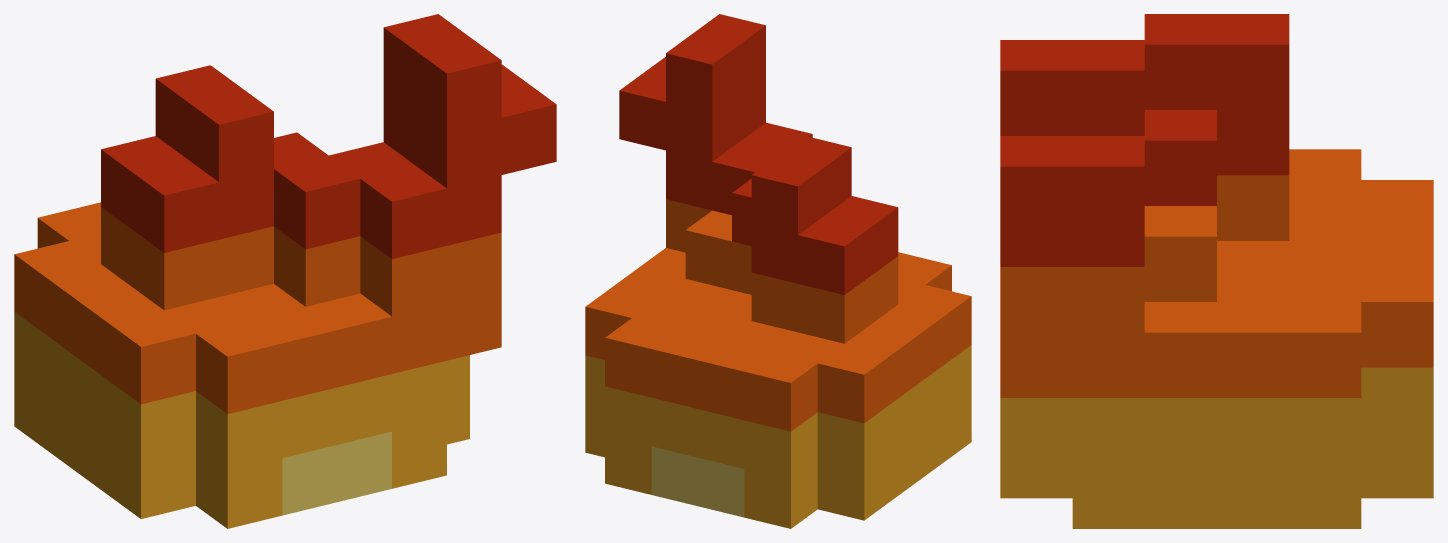
File: flame_01.glb
The picture shows the model from 3 angles, left to right: view 1: azimuth 30°, elevation 25°; view 2: azimuth 150°, elevation 25°; view 3: azimuth 270°, elevation 25°; orthographic projection. The views are drawn at different scales.
Parts seen in each view (by area): view 1: flame_01; view 2: flame_01; view 3: flame_01.
Part boxes in pixels (x1,y1,x2,y2): flame_01: (14, 14, 556, 528); flame_01: (585, 14, 971, 528); flame_01: (1000, 14, 1433, 528).
Size of the model in its own units: 0.875 by 0.875 by 0.75.
